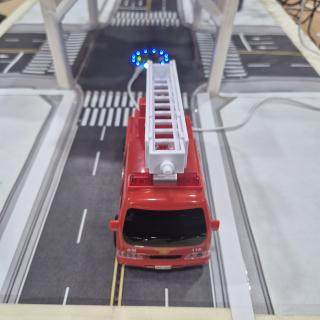Fire_truck: (110, 60, 219, 270)
